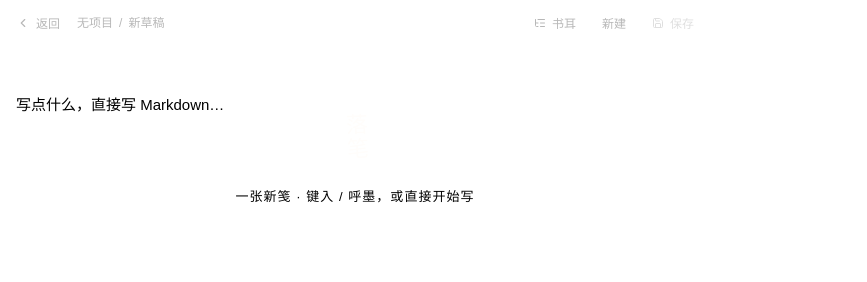
Test case: 编辑器上下文侧栏（右缘停靠） › 插件 area=context 页签声明并上报后出现在侧栏（sections/rows 渲染）
The width and height of the screenshot is (867, 282).
Click the button "书耳". click: (555, 22)
box: 525,12 -> 585,33
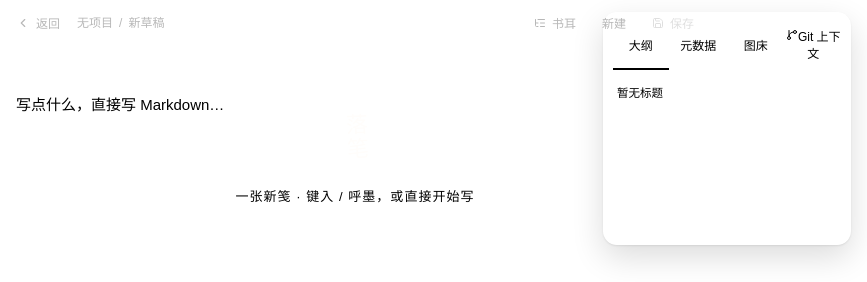
Click the tab "Git 上下文". click: (813, 46)
box: 786,22 -> 841,70
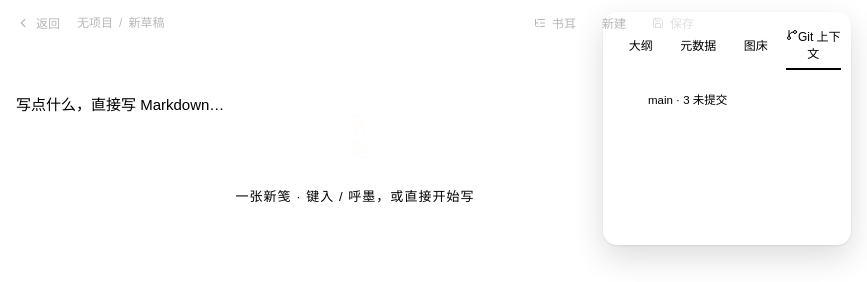
Expected: the text "main · 3 未提交" is shown, 648,94 -> 727,106
